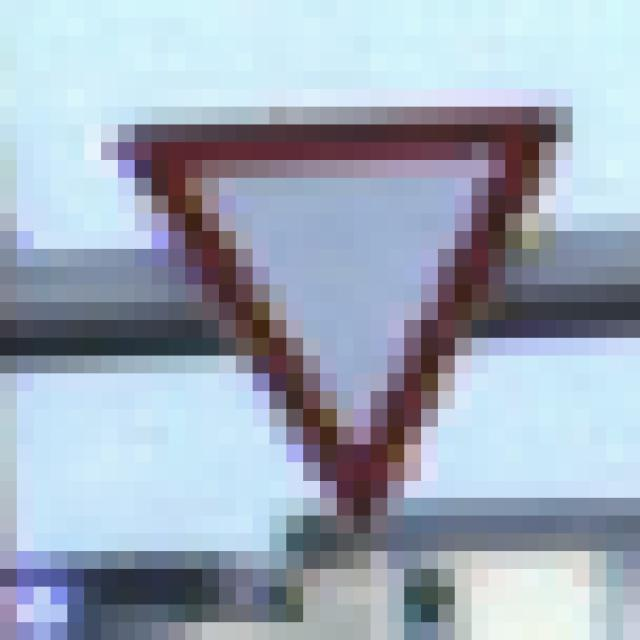Give Way: (85, 90, 557, 552)
